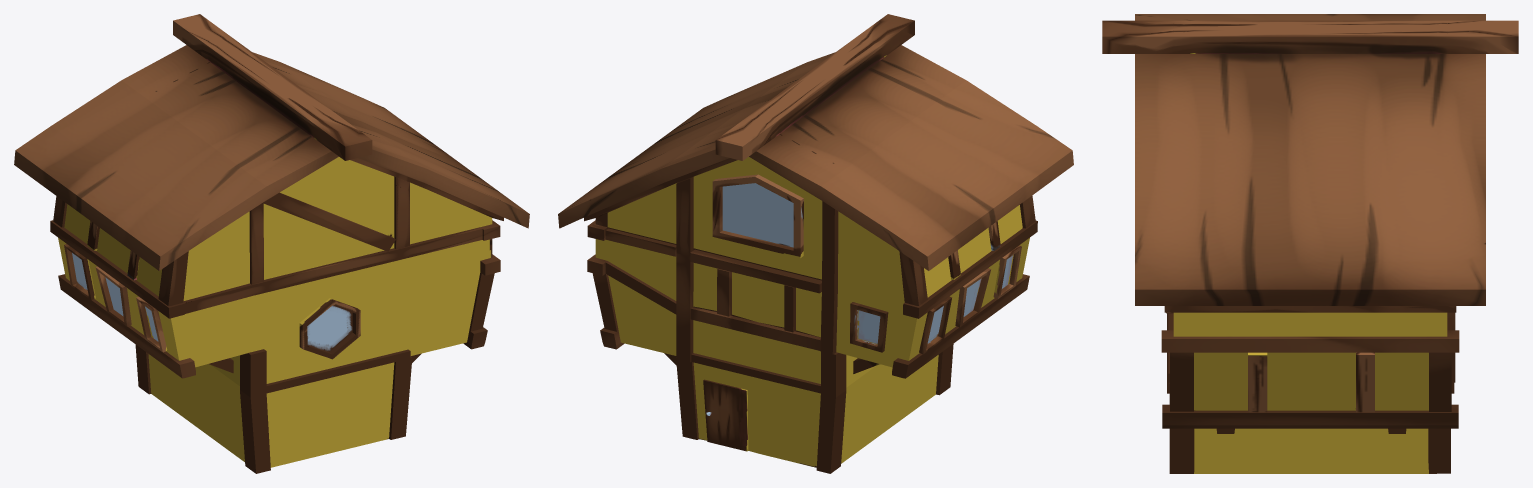
The model's file is batiment1_jaune.fbx.
The picture shows the model from 3 angles, left to right: view 1: azimuth 30°, elevation 25°; view 2: azimuth 150°, elevation 25°; view 3: azimuth 270°, elevation 25°; orthographic projection. The views are drawn at different scales.
Parts seen in each view (by area): view 1: Batiment5; view 2: Batiment5; view 3: Batiment5.
Boxes of the visible parts, left/top/right/bottom form: Batiment5: left=14, top=14, right=529, bottom=473; Batiment5: left=558, top=14, right=1073, bottom=473; Batiment5: left=1102, top=14, right=1518, bottom=473.
Bounding box in the file's own units: 6430 × 5499 × 5172.
Materials: 1 (1 with a texture image).
